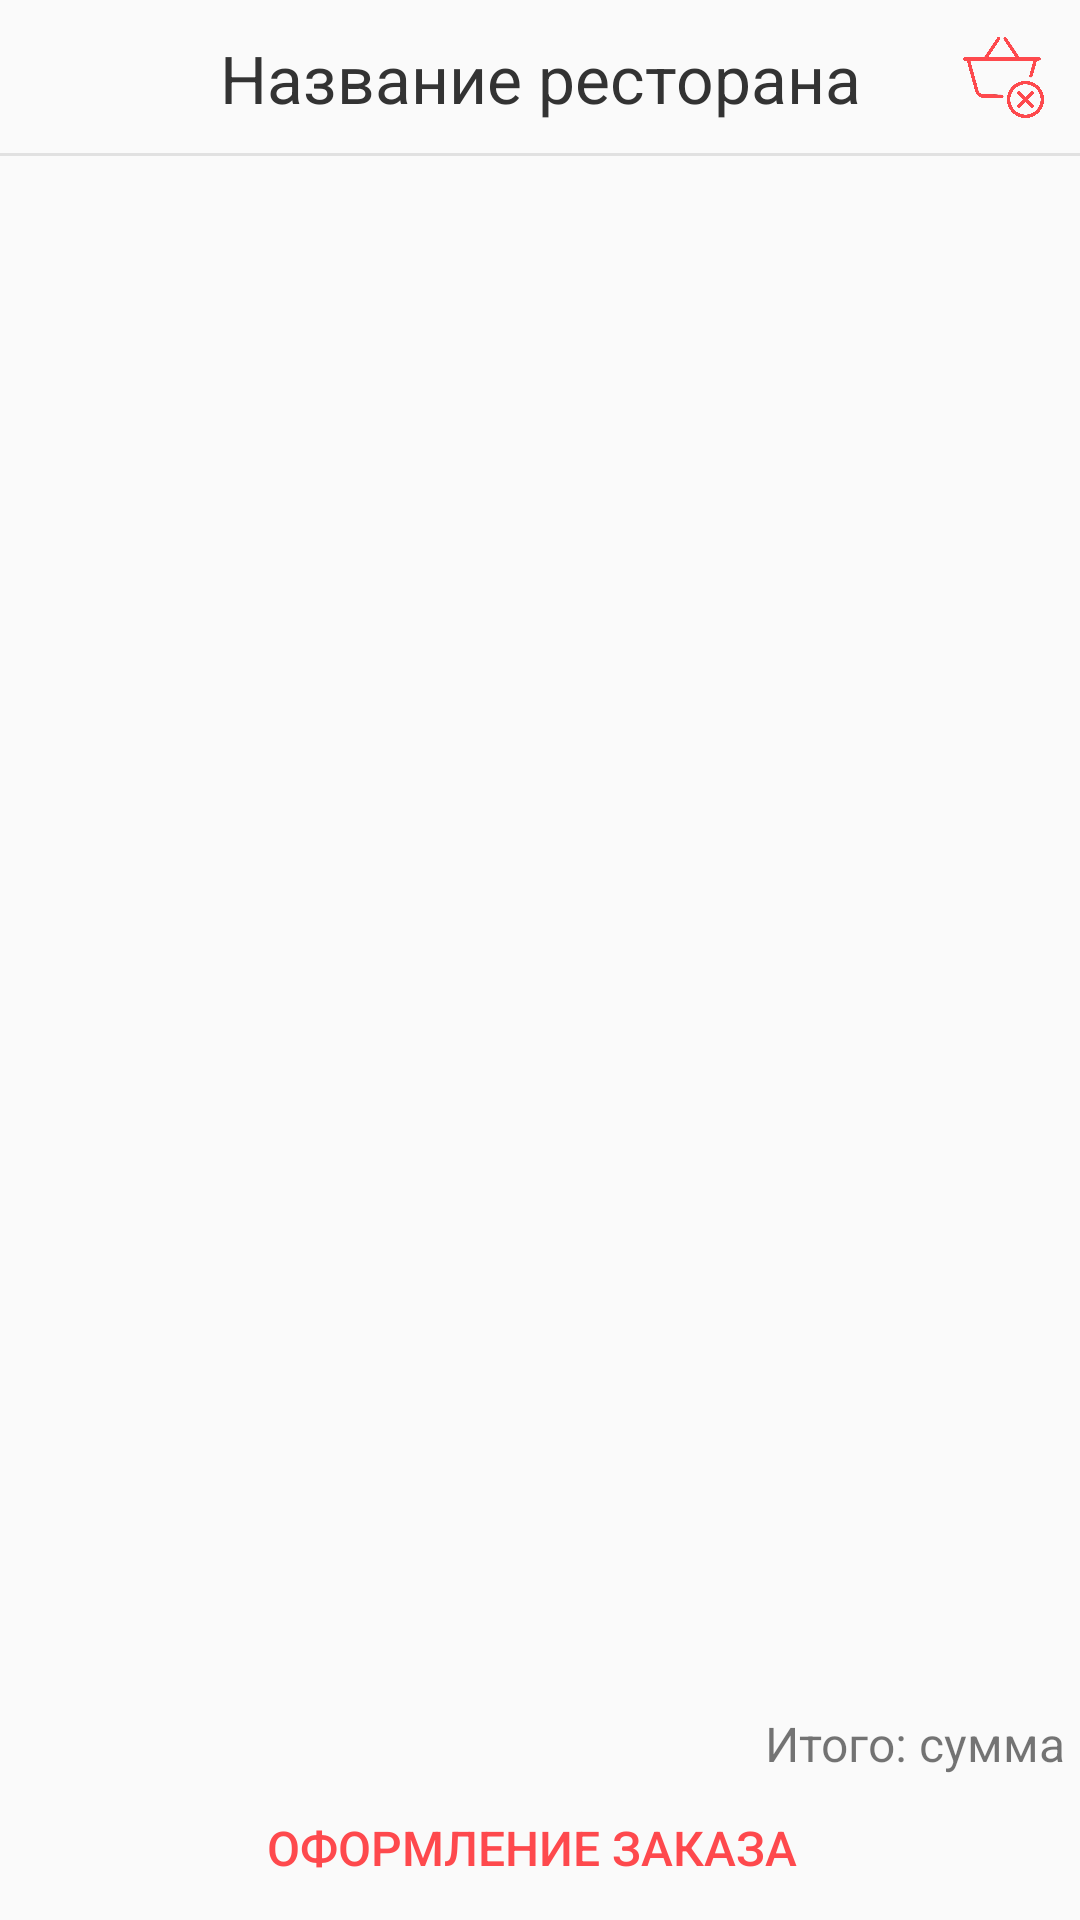

Where icons sit on this 1080w x 1920h app screen, as [x1=x1, y1=y1, x2=x2, y2=y2]:
clear basket: [x1=963, y1=37, x2=1044, y2=118]
